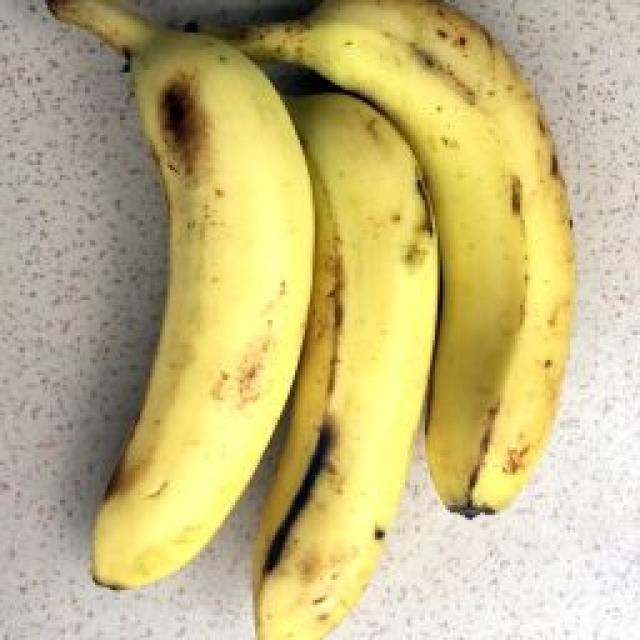banana: (42, 83, 585, 523)
